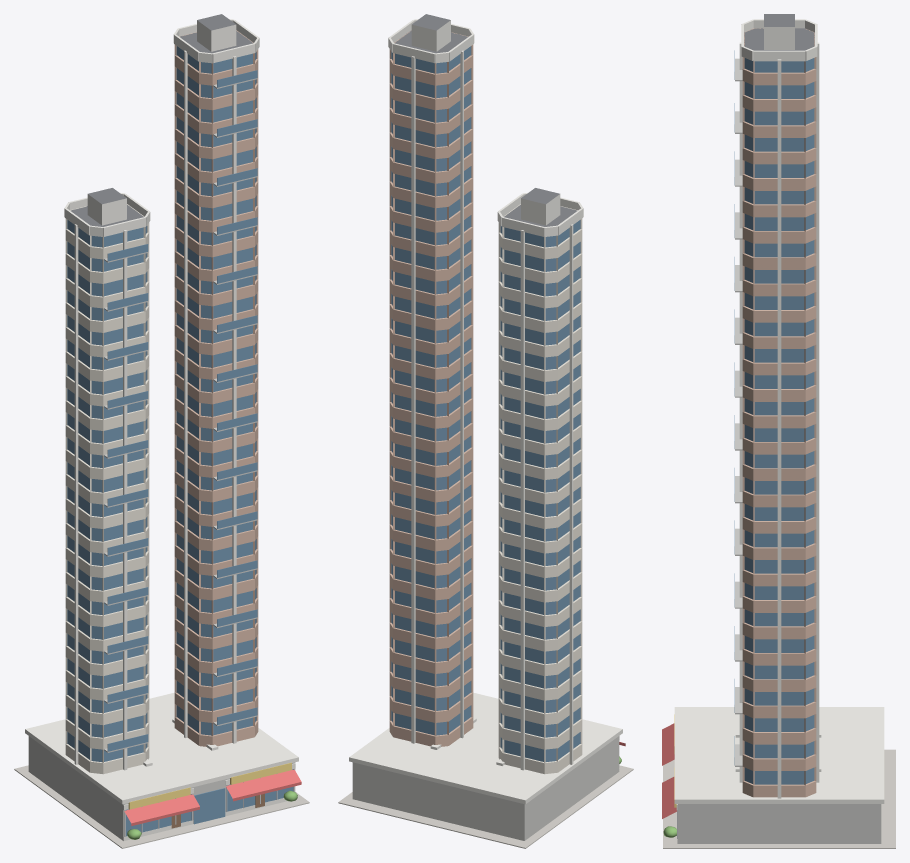
The picture shows the model from 3 angles, left to right: view 1: azimuth 30°, elevation 25°; view 2: azimuth 150°, elevation 25°; view 3: azimuth 270°, elevation 25°; orthographic projection. The views are drawn at different scales.
Visible parts, largest first — view 1: r_3_2_c; view 2: r_3_2_c; view 3: r_3_2_c.
Part boxes in pixels (x1,y1,x2,y2): r_3_2_c: (14,14,309,848); r_3_2_c: (338,14,633,848); r_3_2_c: (662,14,895,848).
Size of the model in its own units: 24 by 91.9 by 24.1.
